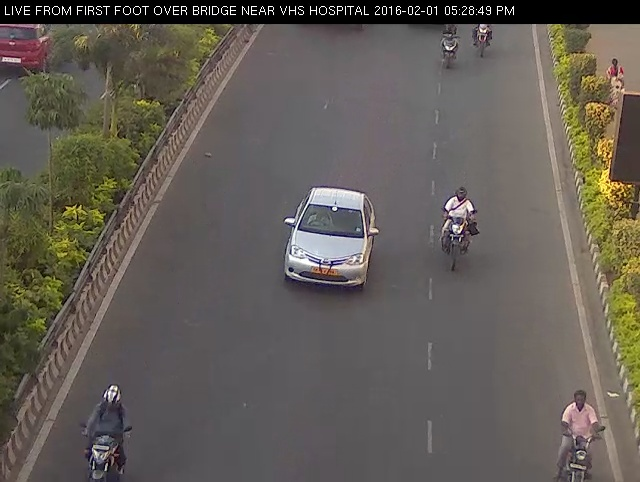Car: (278, 179, 383, 300)
Person: (73, 380, 138, 482), (431, 180, 488, 280), (550, 382, 607, 481), (434, 15, 465, 77), (468, 15, 496, 65)
